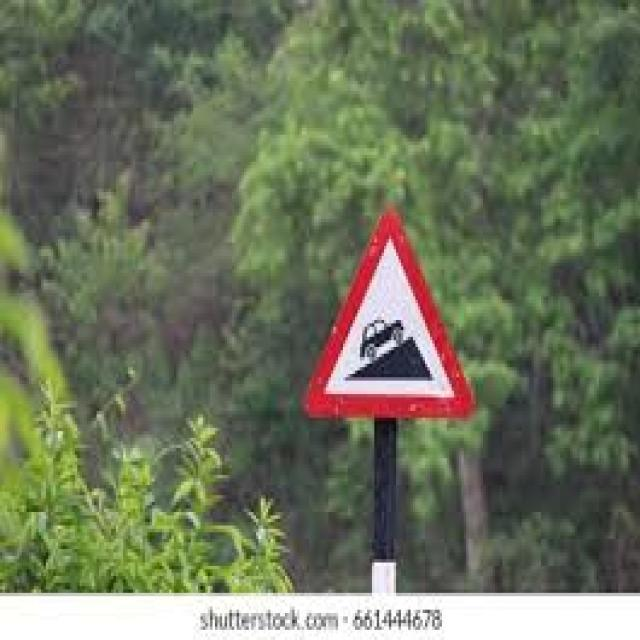steep ascent: (304, 207, 475, 428)
